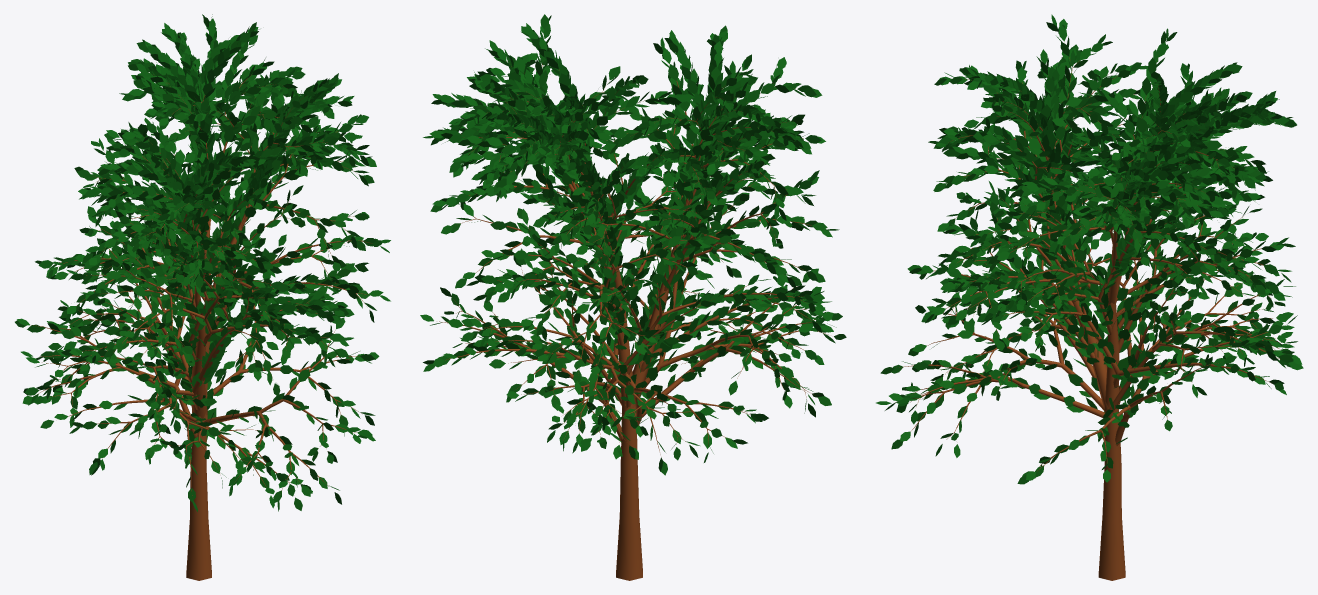
The model's file is tree.glb.
The picture shows the model from 3 angles, left to right: view 1: azimuth 30°, elevation 25°; view 2: azimuth 150°, elevation 25°; view 3: azimuth 270°, elevation 25°; orthographic projection. The views are drawn at different scales.
Parts seen in each view (by area): view 1: leaves, tree; view 2: leaves, tree; view 3: leaves, tree.
Part boxes in pixels (x1,y1,x2,y2): leaves: (15,14,390,511); tree: (33,70,372,580); leaves: (420,14,846,475); tree: (439,61,828,580); leaves: (876,14,1303,484); tree: (899,57,1280,580).
Size of the model in its own units: 9.57 by 13.59 by 9.73.
